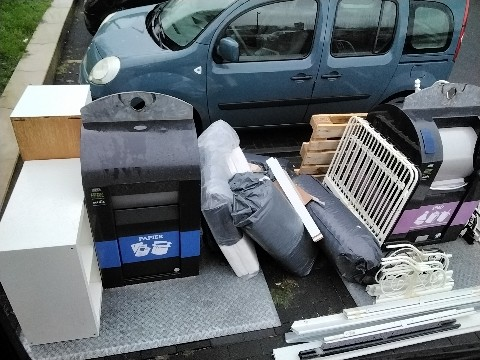Container: (95, 122, 204, 304), (388, 84, 480, 240)
Rest: (18, 90, 94, 331), (308, 109, 388, 263), (321, 174, 400, 282), (207, 127, 262, 273), (238, 138, 310, 248), (368, 245, 469, 290)
Voertuig: (89, 0, 470, 126)
